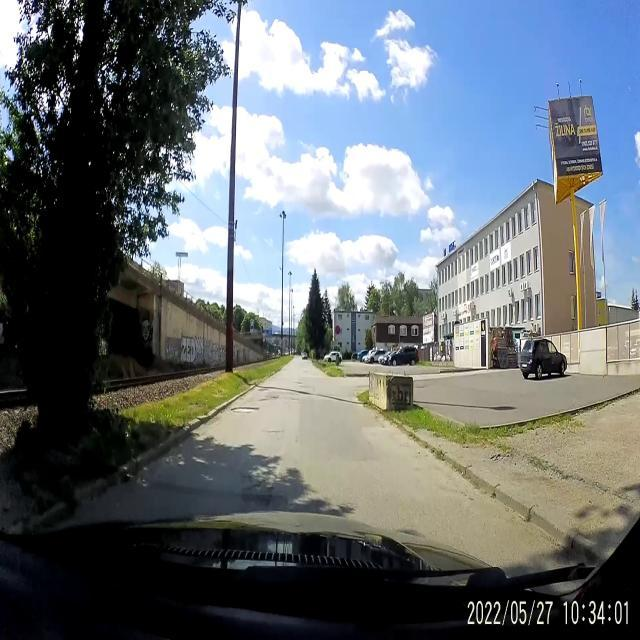Pothole: (240, 474, 276, 508), (230, 404, 260, 414), (262, 430, 286, 434), (256, 387, 270, 393), (270, 394, 280, 402), (292, 380, 302, 386), (289, 392, 300, 396), (298, 385, 312, 388), (258, 398, 268, 401), (296, 402, 302, 406), (264, 394, 268, 398), (379, 426, 386, 428)
